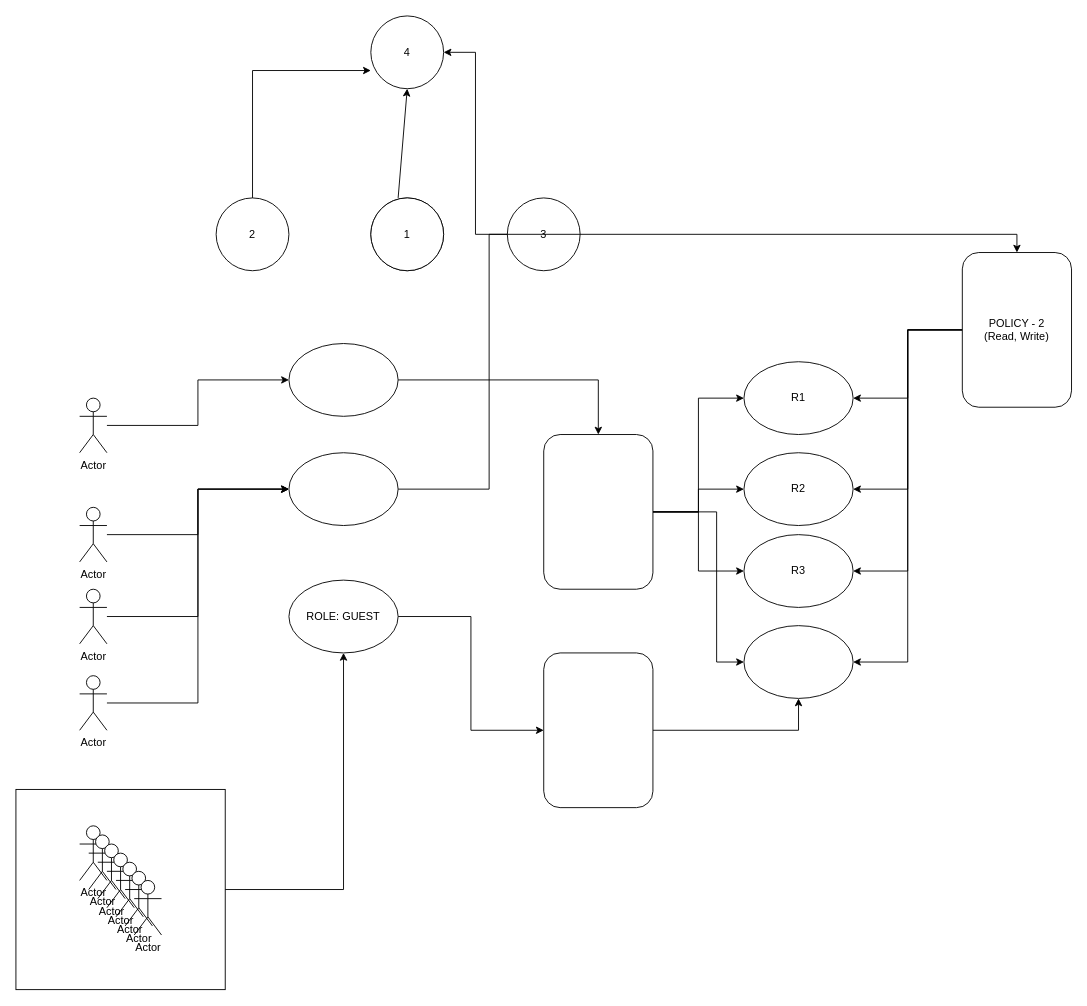
Image size: 1087x1006. Some labels were removed from this diagram. Each missing label, with the centre of its shape:
POLICY - 1 (Read, Write, Delete): (x=598, y=511)
POLICY - 3 (Read): (x=598, y=730)
R4: (x=798, y=661)
ROLE: ADMIN: (x=343, y=379)
ROLE: MEMBER: (x=343, y=489)
